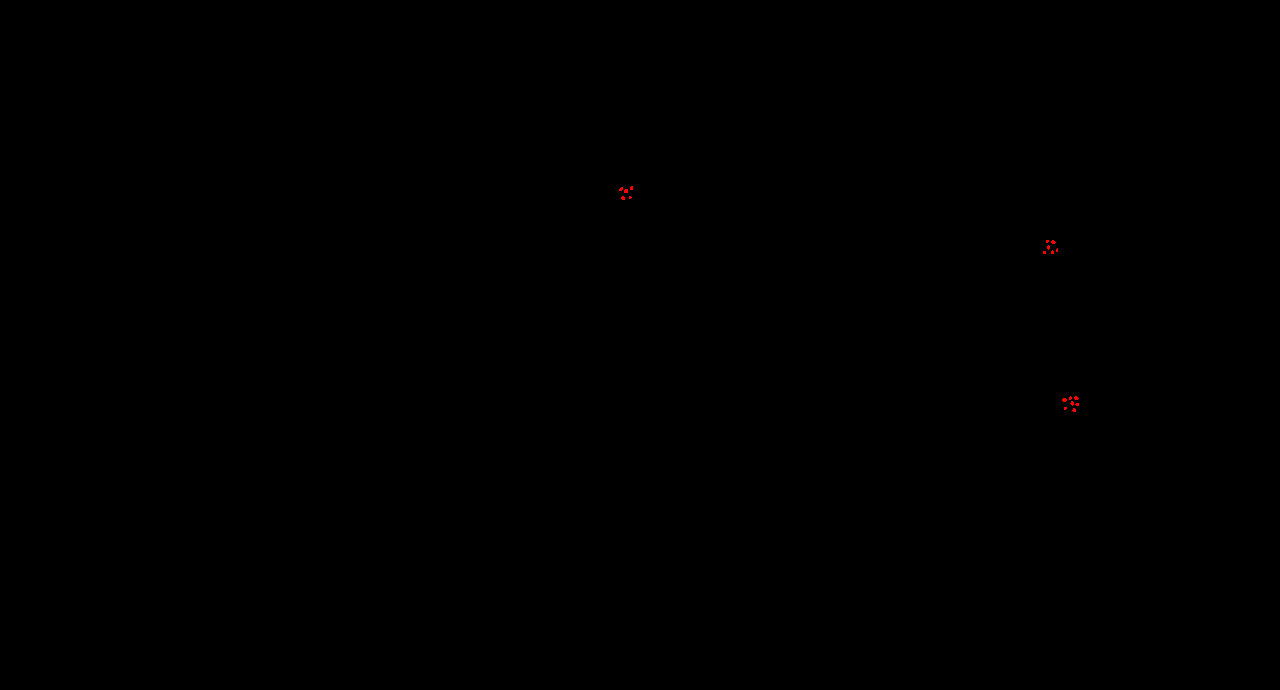Target: (1051, 240, 1056, 244), (1074, 396, 1079, 400), (1062, 398, 1067, 402), (1070, 401, 1074, 406), (619, 187, 623, 191), (624, 189, 628, 193), (621, 196, 625, 200), (1072, 408, 1076, 412), (1047, 245, 1050, 250), (630, 186, 633, 190), (1051, 250, 1054, 254), (1069, 396, 1072, 400), (1075, 403, 1079, 406), (629, 196, 632, 199), (1046, 240, 1049, 243), (1043, 251, 1046, 254), (1064, 407, 1067, 410), (1056, 248, 1058, 252)
